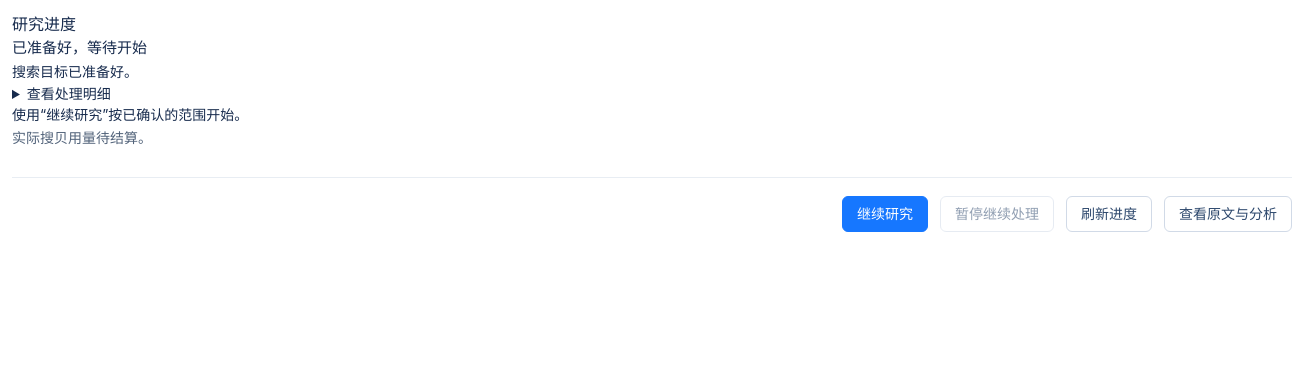
timeout queries original state once and never repeats an unknown model effect
This screenshot has width=1304, height=371.
Click the button "继续研究" at (885, 214), box x1=842 y1=196 x2=928 y2=232
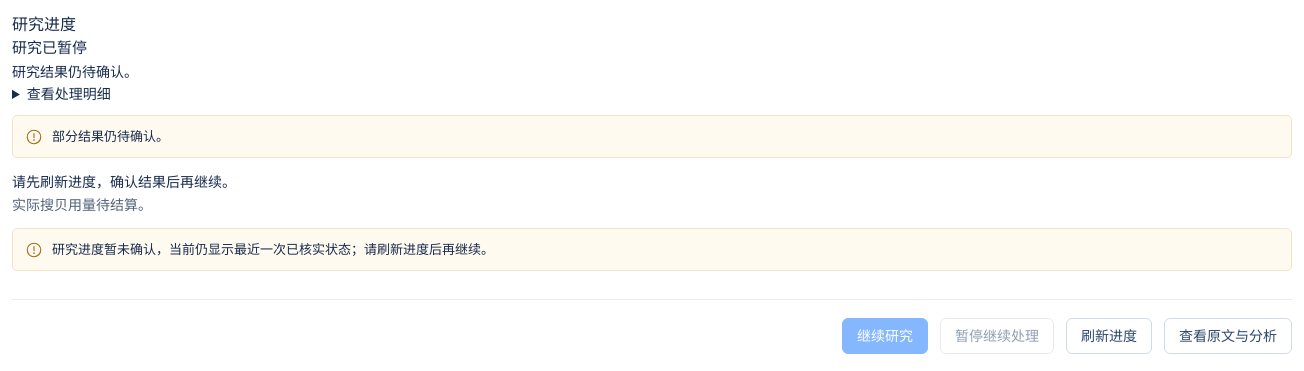
Expected: the text "研究进度暂未确认，当前仍显示最近一次已核实状态；请刷新进度后再继续。" is shown, x1=52 y1=241 x2=494 y2=257
Expected: the button "继续研究" is disabled, x1=842 y1=318 x2=928 y2=354
